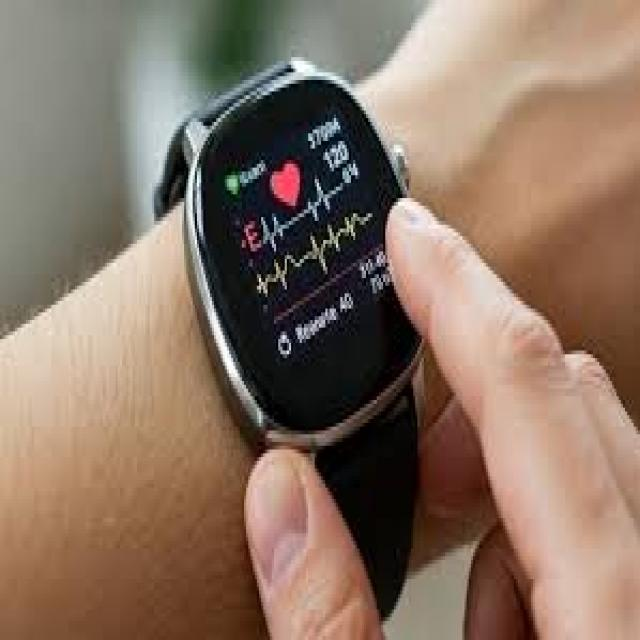objects: (160, 51, 444, 571)
